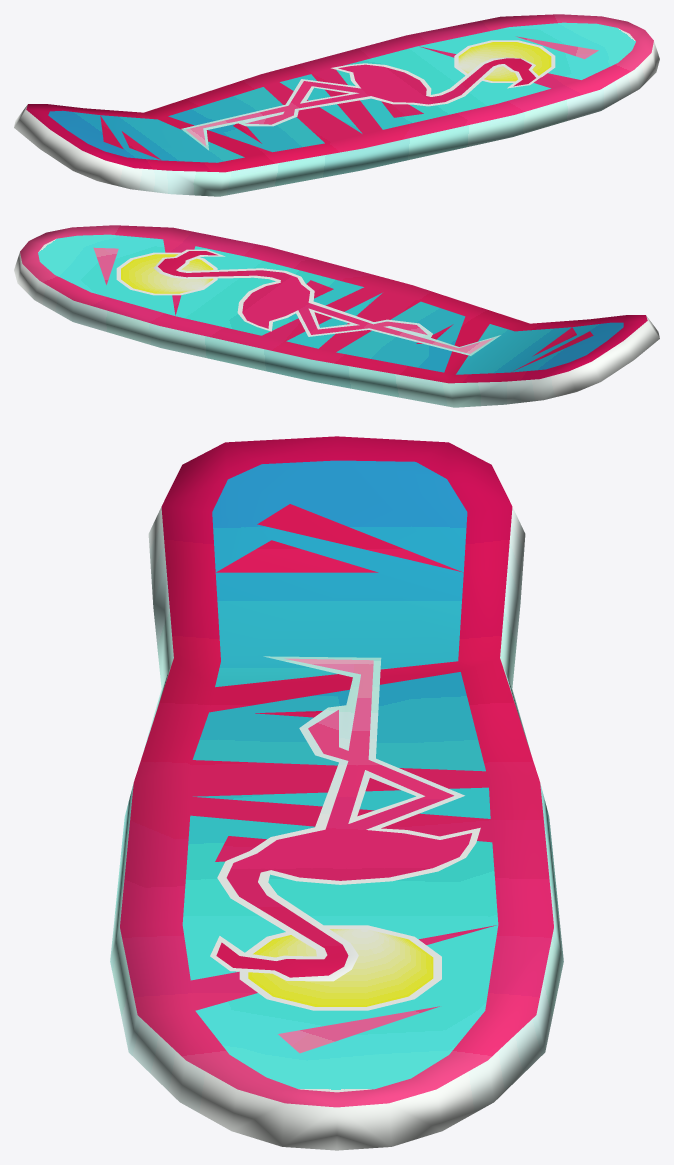
File: Flamingo.glb
3 views of the same model, one above another, from view 1: azimuth 30°, elevation 25°; view 2: azimuth 150°, elevation 25°; view 3: azimuth 270°, elevation 25° (orthographic). The views are drawn at different scales.
Visible parts, largest first — view 1: Flamingo; view 2: Flamingo; view 3: Flamingo.
Boxes of the visible parts, left/top/right/bottom form: Flamingo: left=14, top=14, right=659, bottom=196; Flamingo: left=14, top=225, right=659, bottom=407; Flamingo: left=110, top=436, right=563, bottom=1150.
Size of the model in its own units: 8.77 by 0.8958 by 2.82.
Materials: 1 (1 with a texture image).
